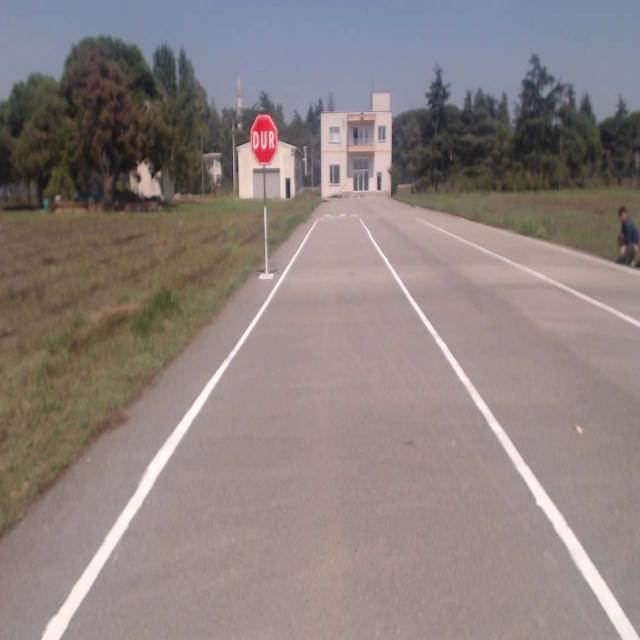dur: (249, 114, 277, 164)
